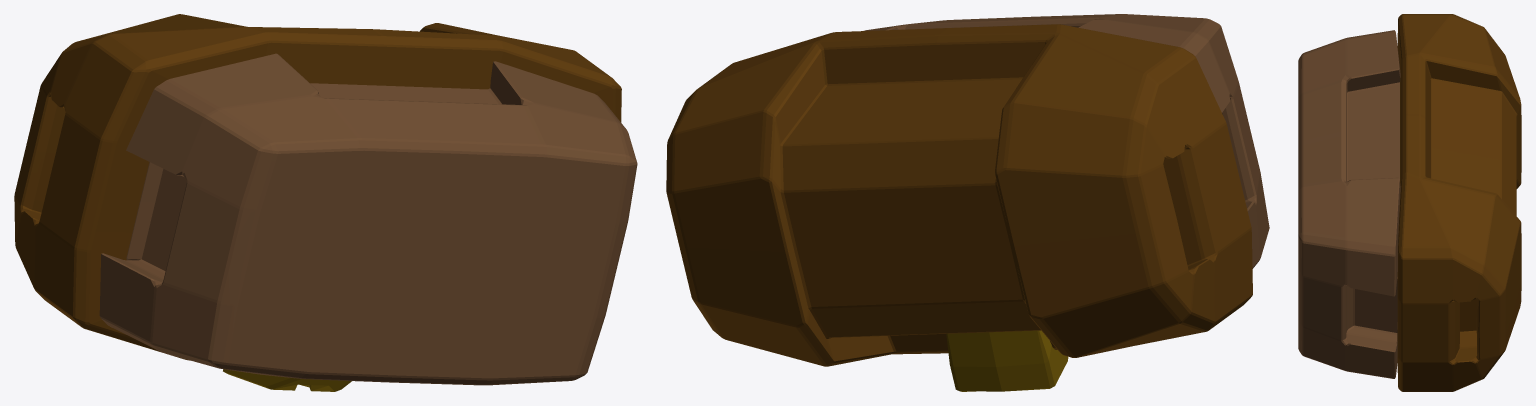
Rendered from Treasure.fbx.
3 renders of one model, left to right at view 1: azimuth 30°, elevation 25°; view 2: azimuth 150°, elevation 25°; view 3: azimuth 270°, elevation 25°, orthographic. The views are drawn at different scales.
Visible parts, largest first — view 1: Chest_Bottom.001; view 2: Chest_Bottom.001; view 3: Chest_Bottom.001.
Boxes of the visible parts, <box> form: Chest_Bottom.001: <box>14,14,637,391</box>; Chest_Bottom.001: <box>666,14,1269,391</box>; Chest_Bottom.001: <box>1298,14,1521,391</box>.
Bounding box in the file's own units: 573 × 384 × 309.
